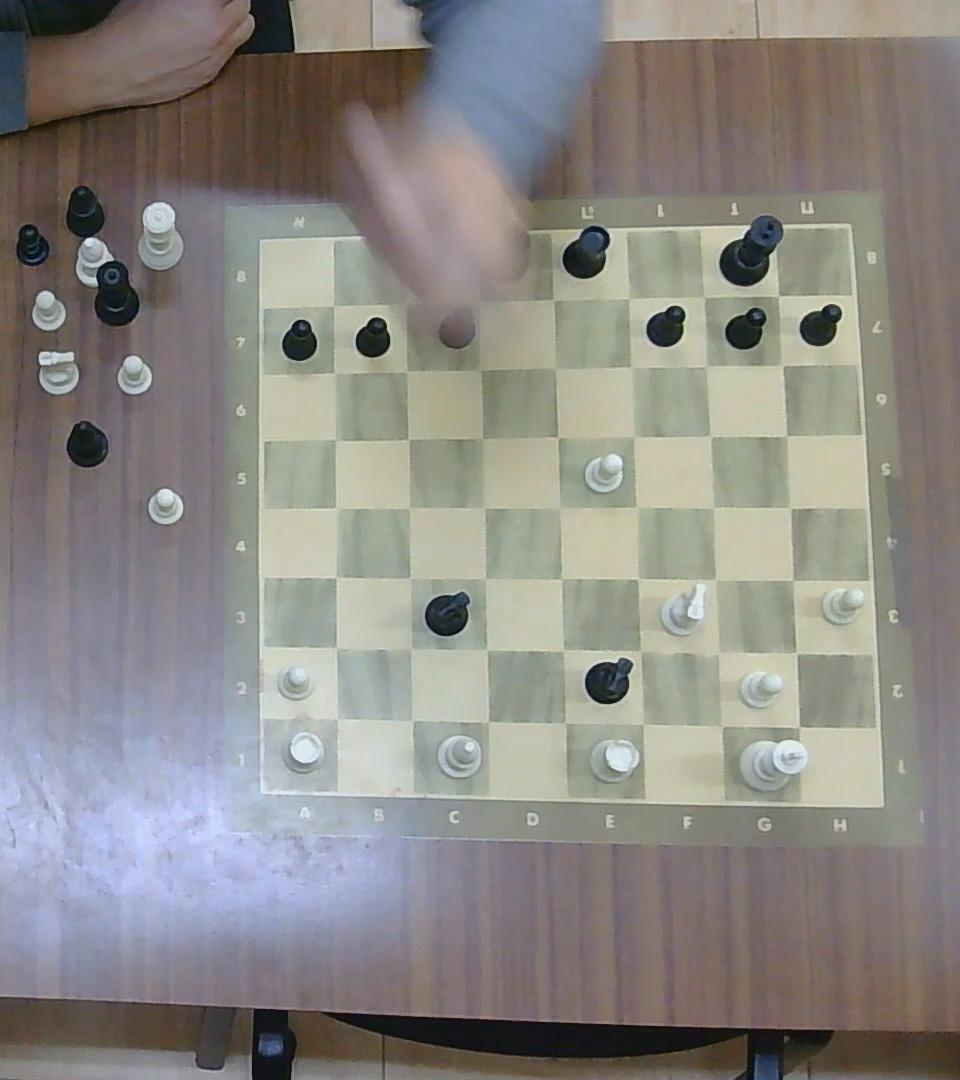xcorner: (624, 705, 659, 739), (702, 707, 738, 740), (701, 637, 735, 669), (781, 709, 815, 741), (624, 635, 656, 667), (548, 706, 579, 738), (621, 563, 653, 594), (547, 633, 578, 665), (780, 637, 812, 668), (396, 703, 427, 734), (320, 701, 351, 732), (470, 634, 501, 664), (471, 705, 502, 735), (700, 563, 730, 594), (547, 563, 577, 594), (698, 493, 728, 522), (461, 287, 491, 316), (321, 562, 350, 591), (395, 633, 424, 662), (321, 633, 350, 662), (622, 491, 651, 520), (538, 284, 567, 313), (776, 566, 806, 594), (470, 564, 500, 592), (776, 492, 806, 520), (545, 491, 573, 520), (470, 492, 499, 520), (395, 562, 423, 591), (619, 421, 648, 449), (616, 352, 645, 380), (543, 421, 571, 449), (467, 423, 495, 450), (322, 494, 350, 521), (615, 285, 643, 312), (395, 493, 423, 519), (696, 422, 723, 448), (393, 426, 421, 451), (693, 353, 720, 378), (322, 426, 348, 451), (392, 291, 419, 315), (467, 355, 492, 380), (541, 354, 567, 378), (393, 357, 418, 381), (773, 423, 798, 447), (691, 285, 716, 308), (770, 353, 793, 375), (323, 294, 345, 316), (324, 362, 346, 383), (767, 285, 790, 305)
